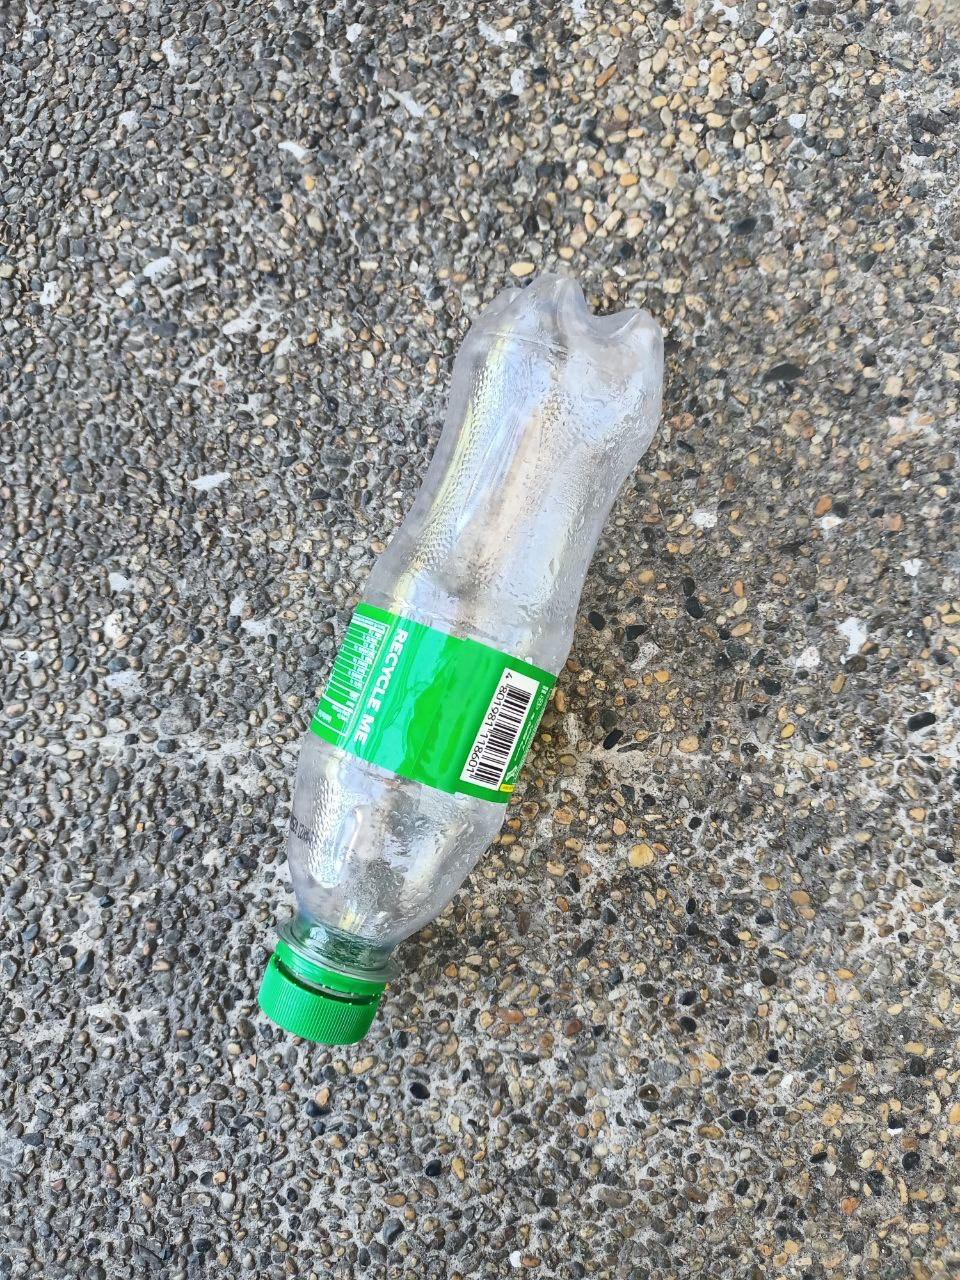plastic: (214, 211, 711, 1090)
